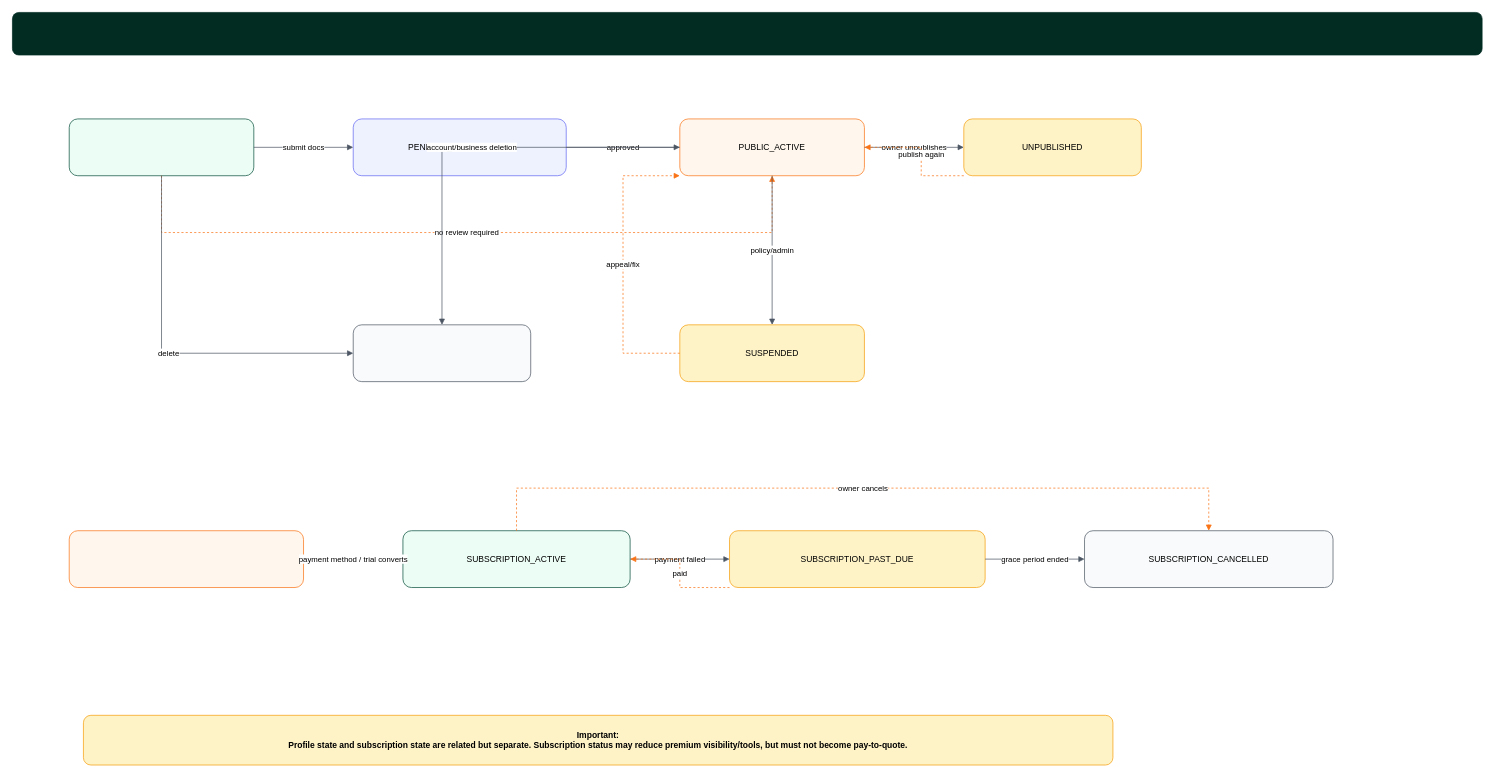
The diagram is 1495 pixels wide and 777 high, and some of its shapes have lost their labels. The shapes that lost their labels are listed below. From the top down, each one's centre as x and y in pixels, then its label:
At point (747, 33): "Viaverse Business Profile / Subscription — State Diagram".
At point (161, 147): "BUSINESS_DRAFT".
At point (442, 353): "DELETED".
At point (186, 559): "SUBSCRIPTION_TRIALING".
